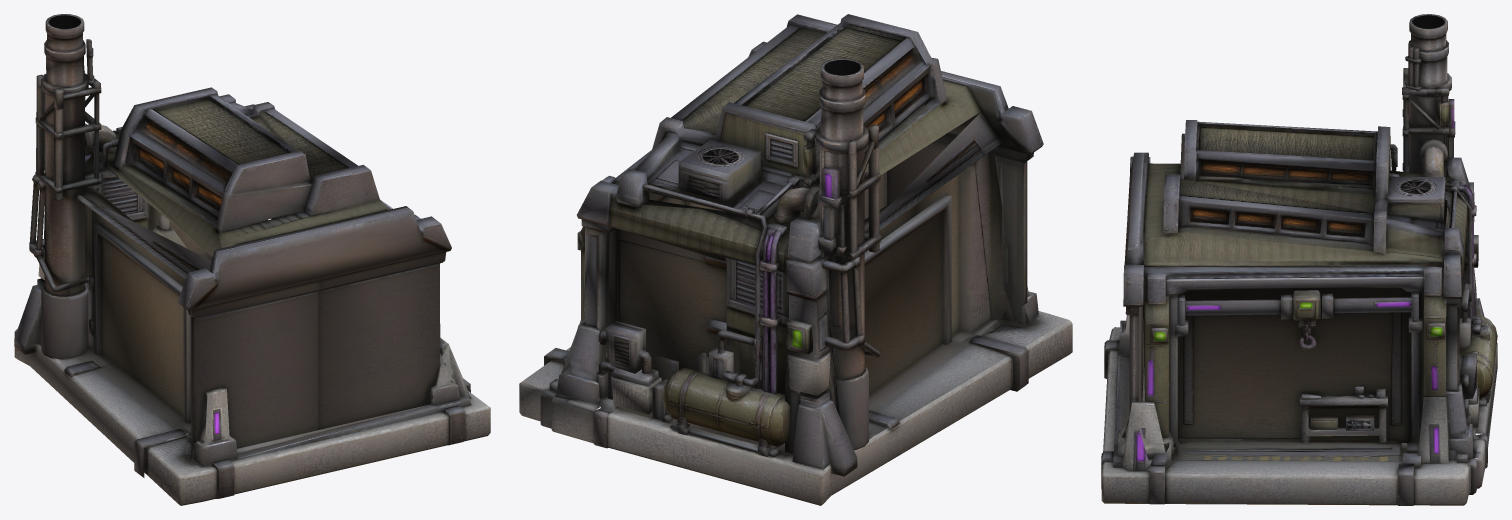
The model's file is forge_l03.glb.
The picture shows the model from 3 angles, left to right: view 1: azimuth 30°, elevation 25°; view 2: azimuth 150°, elevation 25°; view 3: azimuth 270°, elevation 25°; orthographic projection. The views are drawn at different scales.
Parts seen in each view (by area): view 1: tripo_node_97eda10c-86e4-4f62-b013-9204d4a1656c; view 2: tripo_node_97eda10c-86e4-4f62-b013-9204d4a1656c; view 3: tripo_node_97eda10c-86e4-4f62-b013-9204d4a1656c.
Boxes of the visible parts, x1,y1,x2,y2 form: tripo_node_97eda10c-86e4-4f62-b013-9204d4a1656c: (14,14,490,505); tripo_node_97eda10c-86e4-4f62-b013-9204d4a1656c: (519,14,1072,505); tripo_node_97eda10c-86e4-4f62-b013-9204d4a1656c: (1101,14,1497,505).
Size of the model in its own units: 0.9106 by 0.9897 by 0.9995.
Materials: 1 (1 with a texture image).
